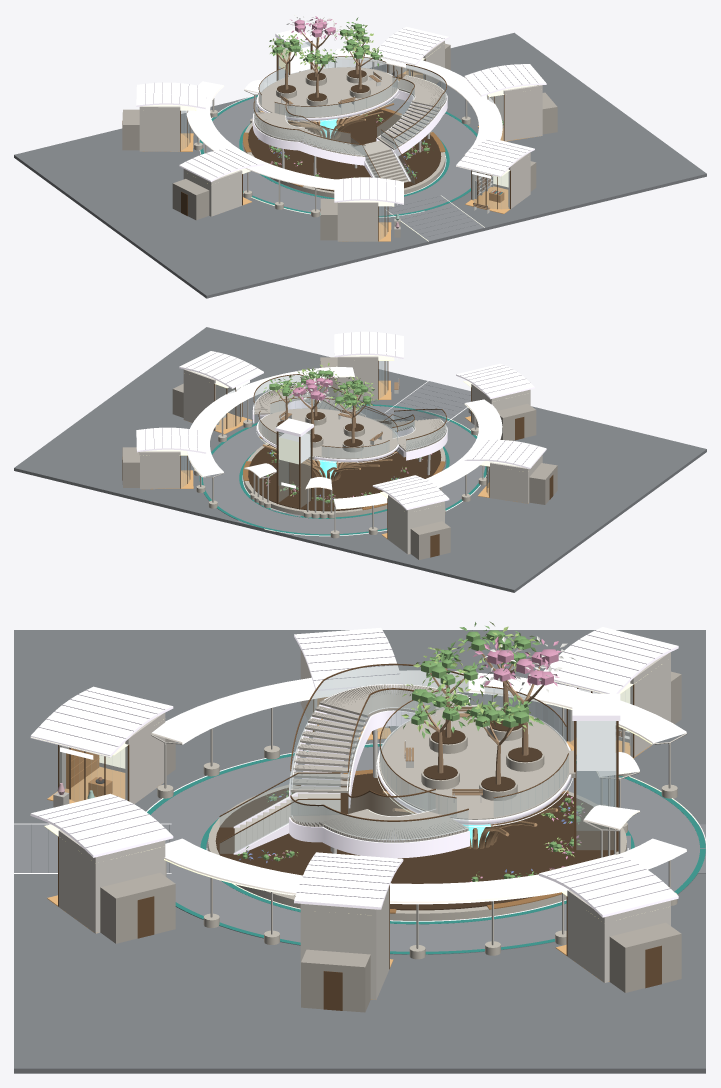
The model's file is q09c-skywalk-market.glb.
The picture shows the model from 3 angles, top to bottom: view 1: azimuth 30°, elevation 25°; view 2: azimuth 150°, elevation 25°; view 3: azimuth 270°, elevation 25°; orthographic projection. The views are drawn at different scales.
Parts seen in each view (by area): view 1: PAVING, SHOPS, CANOPY_COURTYARD, CANOPIES, COURTYARD_GROUND, SKYWALK_R, SKYWALK_L, STAIR_LANDING, LIFT; view 2: PAVING, SHOPS, CANOPY_COURTYARD, CANOPIES, COURTYARD_GROUND, LIFT, SKYWALK_L, SKYWALK_R; view 3: PAVING, SHOPS, CANOPY_COURTYARD, CANOPIES, COURTYARD_GROUND, SKYWALK_L, SKYWALK_R, LIFT, STAIR_LANDING.
Part boxes in pixels (left/top/right/bottom): PAVING: left=14, top=32, right=706, bottom=298; SHOPS: left=122, top=26, right=557, bottom=241; CANOPY_COURTYARD: left=256, top=14, right=399, bottom=139; CANOPIES: left=186, top=48, right=502, bottom=217; COURTYARD_GROUND: left=243, top=107, right=445, bottom=197; SKYWALK_R: left=376, top=64, right=447, bottom=156; SKYWALK_L: left=252, top=101, right=365, bottom=176; STAIR_LANDING: left=351, top=129, right=414, bottom=183; LIFT: left=275, top=29, right=313, bottom=80; PAVING: left=14, top=327, right=706, bottom=592; SHOPS: left=122, top=331, right=557, bottom=559; CANOPY_COURTYARD: left=256, top=363, right=398, bottom=481; CANOPIES: left=187, top=366, right=502, bottom=538; COURTYARD_GROUND: left=243, top=419, right=445, bottom=517; LIFT: left=270, top=418, right=314, bottom=516; SKYWALK_L: left=380, top=408, right=447, bottom=475; SKYWALK_R: left=252, top=374, right=365, bottom=423; PAVING: left=14, top=630, right=706, bottom=1073; SHOPS: left=30, top=627, right=681, bottom=1012; CANOPY_COURTYARD: left=376, top=621, right=575, bottom=849; CANOPIES: left=151, top=670, right=686, bottom=959; COURTYARD_GROUND: left=208, top=769, right=626, bottom=920; SKYWALK_L: left=289, top=663, right=469, bottom=808; SKYWALK_R: left=289, top=788, right=469, bottom=858; LIFT: left=563, top=693, right=630, bottom=851; STAIR_LANDING: left=219, top=772, right=340, bottom=854.
Bounding box in the file's own units: 54 × 12.08 × 36.06.
